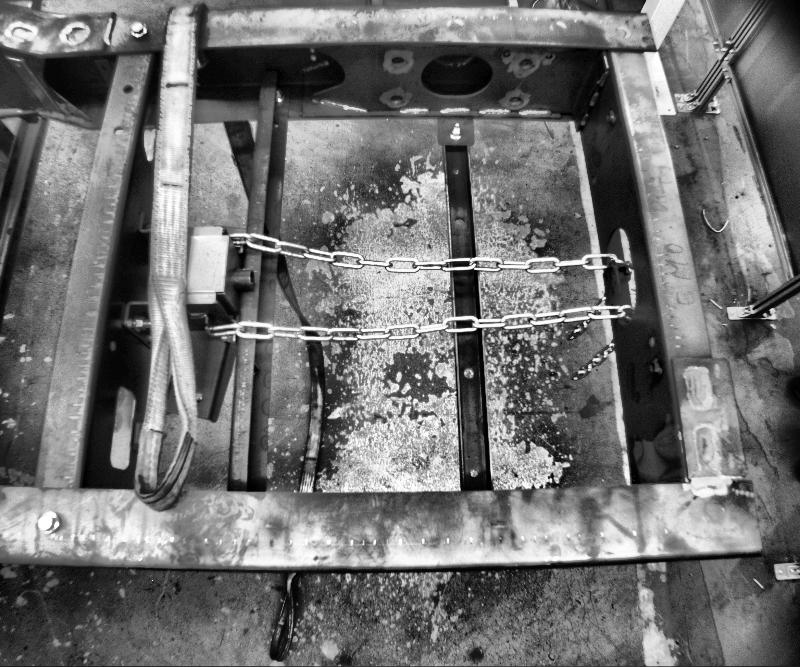bolt: (128, 21, 148, 42), (40, 511, 60, 532), (134, 318, 156, 334), (645, 357, 663, 376), (267, 87, 285, 102), (449, 122, 461, 142), (606, 110, 616, 124)
bracket: (598, 259, 622, 305)
hole: (418, 51, 493, 97), (108, 382, 138, 475), (388, 53, 407, 68), (390, 94, 406, 107), (516, 57, 532, 69), (462, 368, 474, 381), (508, 95, 522, 106), (453, 215, 464, 227), (644, 336, 656, 347), (107, 340, 117, 353), (469, 469, 480, 480), (122, 83, 132, 93), (112, 126, 122, 136), (452, 166, 460, 174)
welding: (574, 114, 588, 129), (595, 71, 607, 88), (584, 98, 598, 110)
